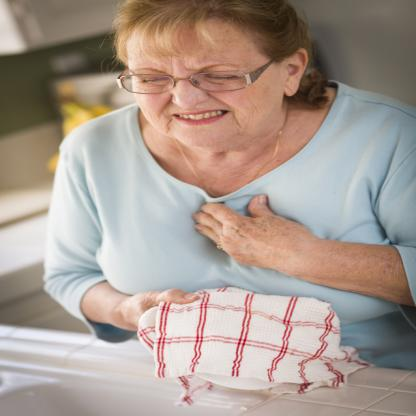pain: (115, 64, 264, 98)
